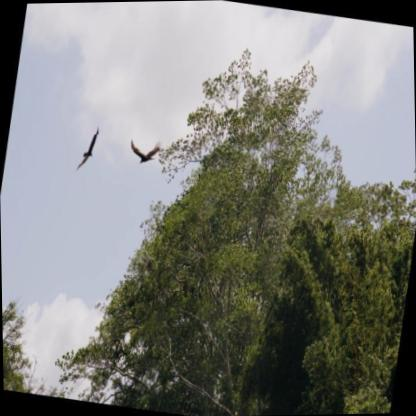bird: (126, 134, 164, 168), (75, 123, 100, 173)
